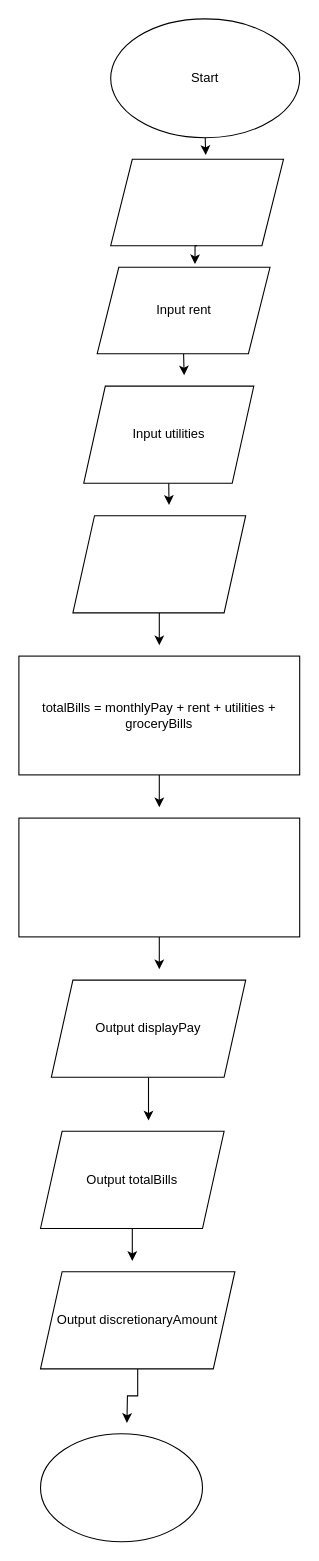
Image size: 319x1561. Some labels were removed from this diagram. Each missing label, with the centre of its shape:
"discretionaryAmount = monthlyPay - total bills" goes at point 159,877.
"Input groceryBills" goes at point 159,564.
"Input monthlyPay" goes at point 197,202.
"Stop" goes at point 120,1487.
